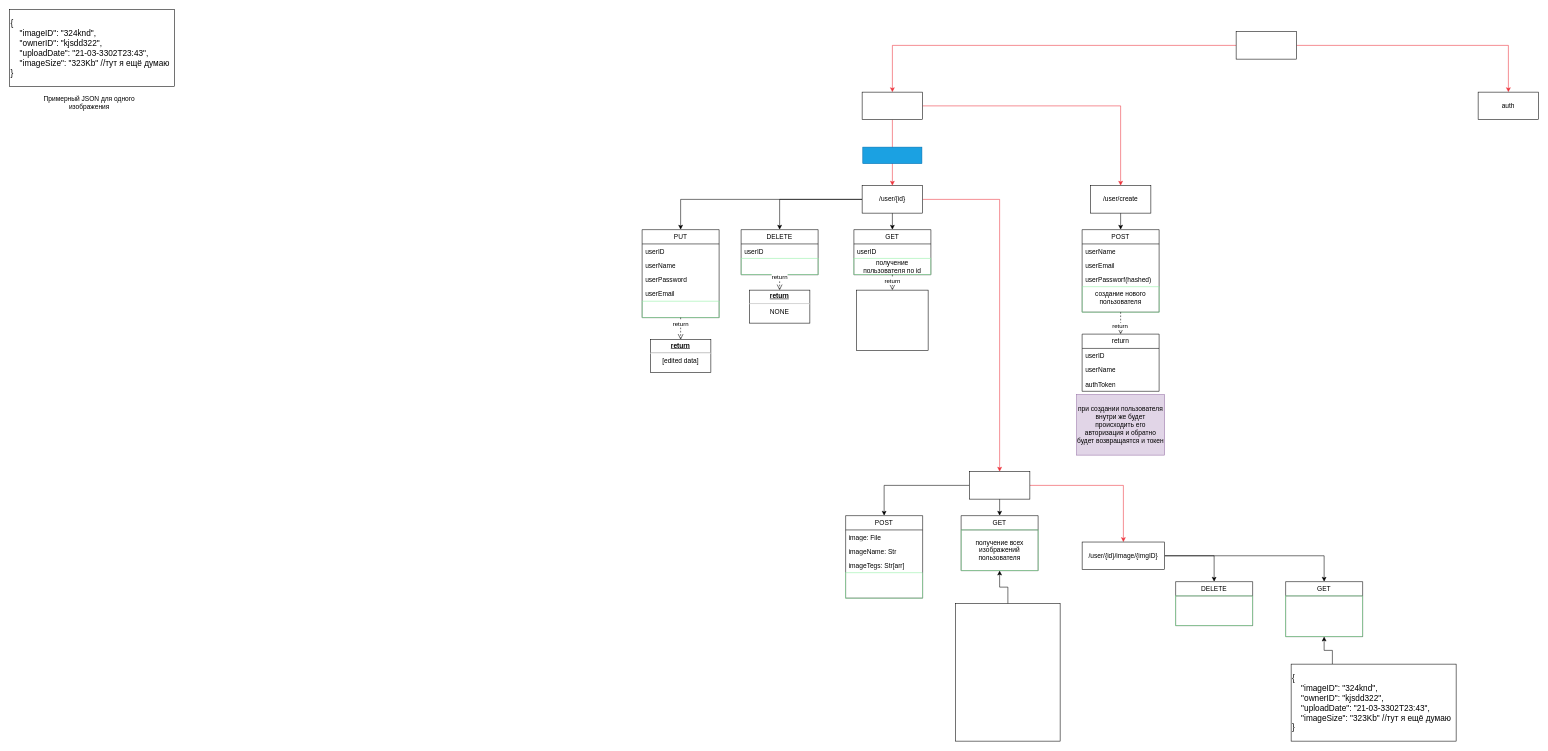
The diagram is 1548 pixels wide and 751 high, and some of its shapes have lost their labels. Here are the shapes that lost their labels. From the top down, the centre of each, then its label:
pixel 1266 45: /API
pixel 892 106: /user
pixel 892 155: проверка токена
pixel 779 266: удаление пользователя
pixel 680 309: изменение данныхх о пользователе
pixel 892 320: return userID: uuid userName: Str userEmail: Str userImageCount: int
pixel 999 485: /user/{id}/image
pixel 884 585: побаление нового изображения
pixel 1214 610: удаляет изображение по id
pixel 1324 616: получение изображение пользователя по id
pixel 1007 672: JSON { filter: "filter" offset: 0, images: [ {*image data*} .... ] }
